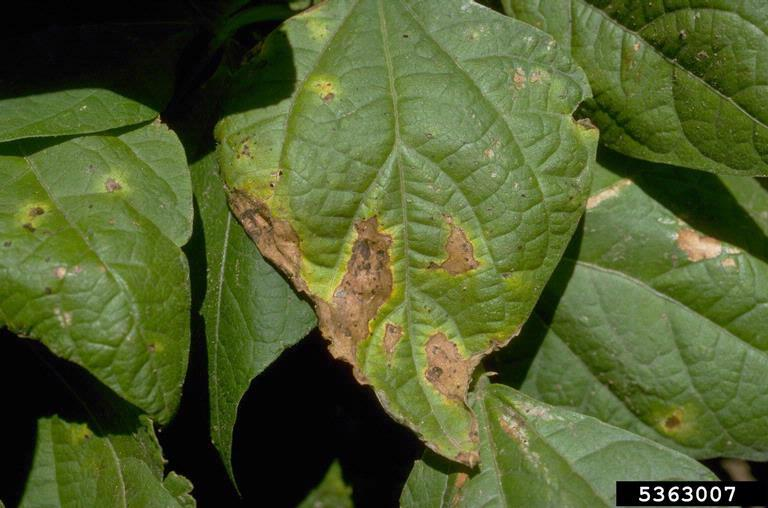StringBeans_BacterialBlight: (248, 126, 555, 442)
